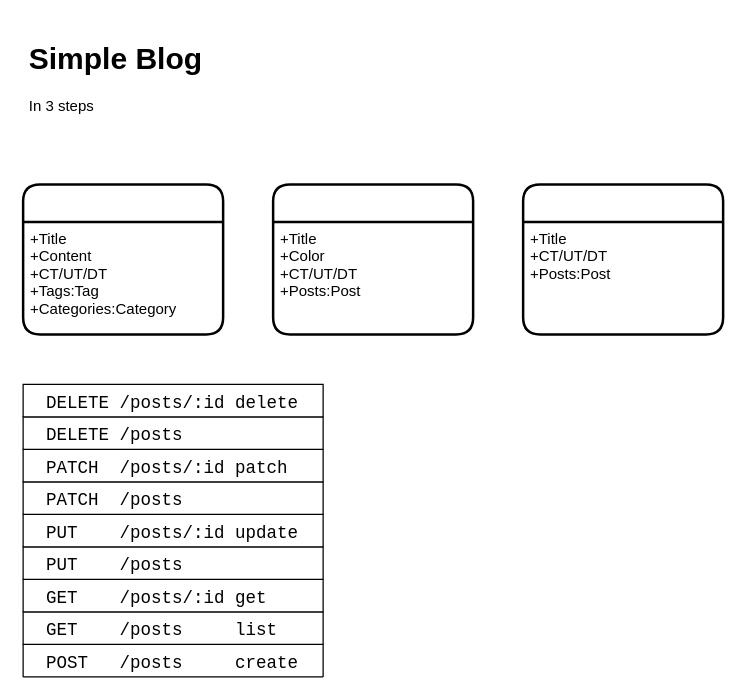
Image size: 745x699. Some labels were removed from this diagram. The shapes that lost their labels are listed below. From the top down, each one's box as (x1, y1, x2, y2) in pixels, then its label:
(21, 182, 224, 335): Post
(271, 182, 474, 335): Tag
(521, 182, 724, 335): Category
